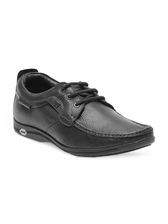shoes: (7, 65, 156, 157)
